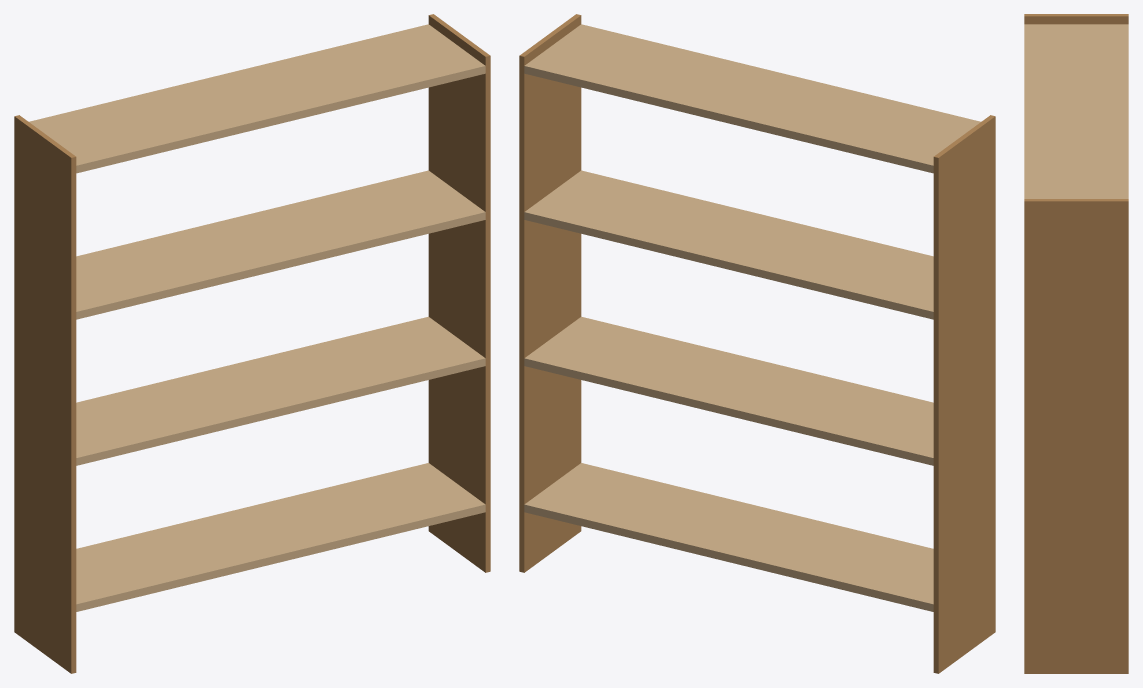
3 views of the same model, side by side, from view 1: azimuth 30°, elevation 25°; view 2: azimuth 150°, elevation 25°; view 3: azimuth 270°, elevation 25° (orthographic). The views are drawn at different scales.
Visible parts, largest first — view 1: estante_lt; view 2: estante_lt; view 3: estante_lt.
Boxes of the visible parts, x1,y1,x2,y2 form: estante_lt: (14,14,490,673); estante_lt: (519,14,995,673); estante_lt: (1024,14,1128,673).
Bounding box in the file's own units: 1.7 × 0.4 × 2.
